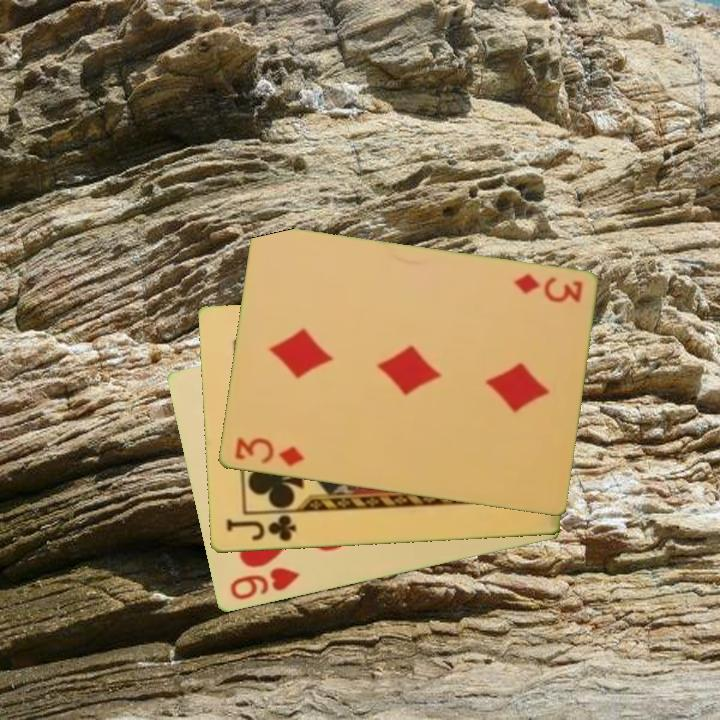3d: (509, 270, 585, 306), (231, 434, 306, 470)
9h: (226, 564, 303, 603)
Jc: (222, 512, 299, 545)
